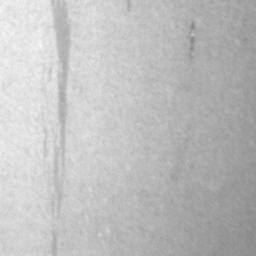Inclusion: (52, 0, 70, 132)
